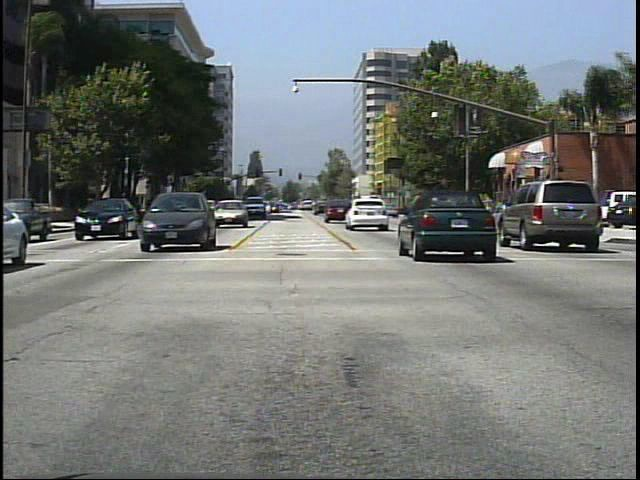person: (485, 189, 503, 225), (517, 195, 535, 230)
